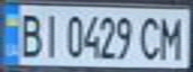0: (60, 11, 84, 58)
2: (97, 11, 118, 61)
4: (81, 11, 100, 60)
9: (115, 12, 139, 61)
B: (15, 9, 45, 58)
C: (136, 12, 163, 61)
I: (39, 10, 63, 58)
M: (157, 12, 187, 61)
